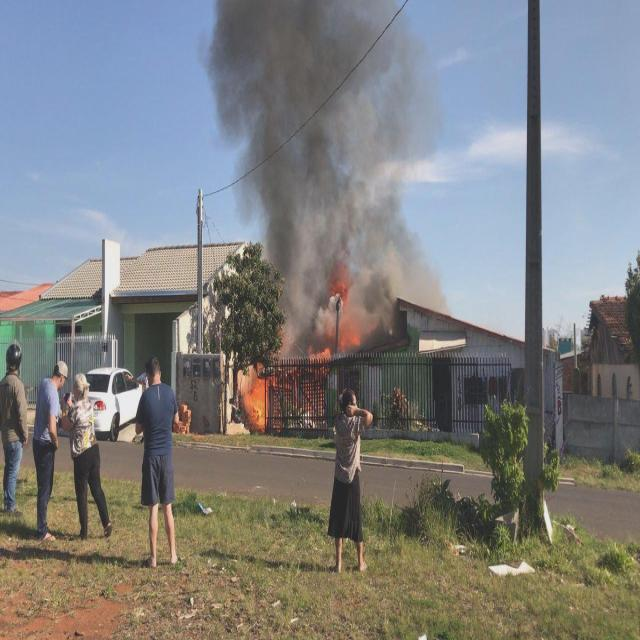Fire: (249, 377, 267, 427), (308, 344, 330, 359)
Smoke: (208, 1, 458, 293)
